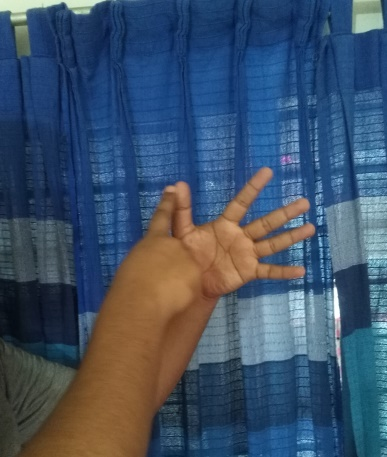a: (142, 165, 321, 288)
